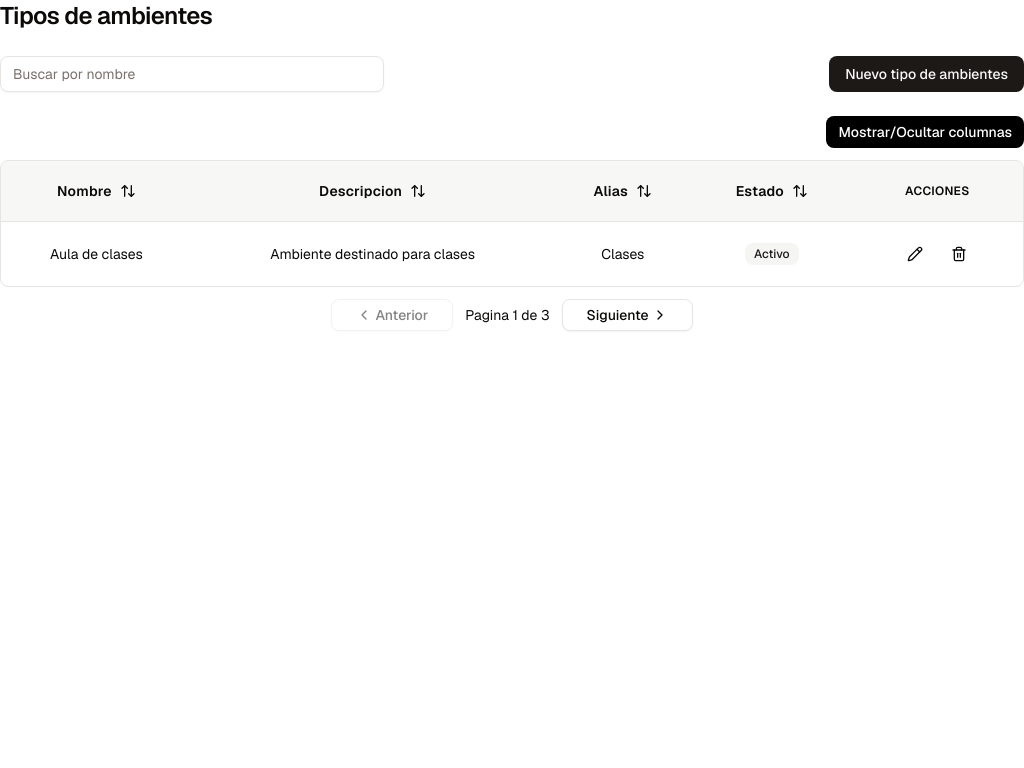
Test: EnvironmentTypeListPage › abre el modal de eliminacion y muestra los datos del tipo seleccionado
Check: the text "Aula de clases" is shown, box [50,245,143,263]
Click the button named "eliminar tipo de ambiente": [959, 254] box [941,236,977,272]
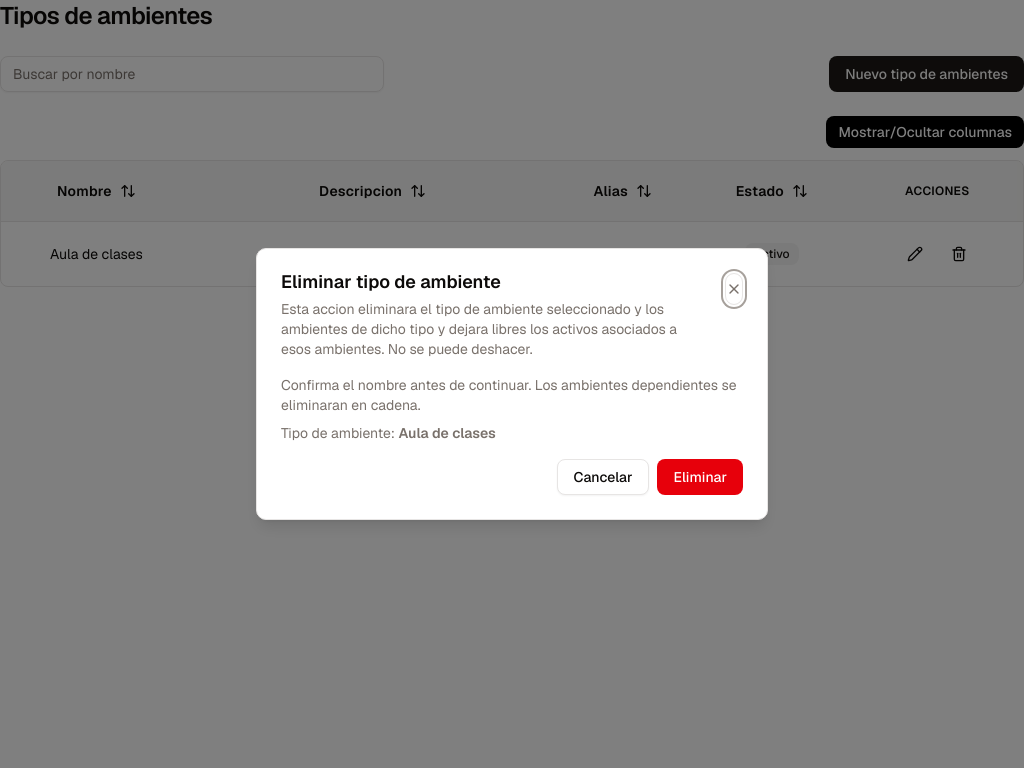
Check: the heading "Eliminar tipo de ambiente" is shown, box [281,270,501,293]
Check: the text "Aula de clases" is shown, box [398,424,496,442]
